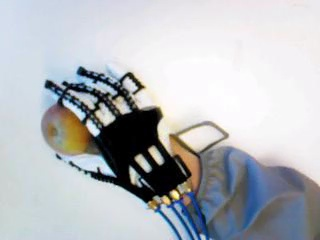apple: (40, 103, 89, 153)
hand: (40, 67, 188, 211)
